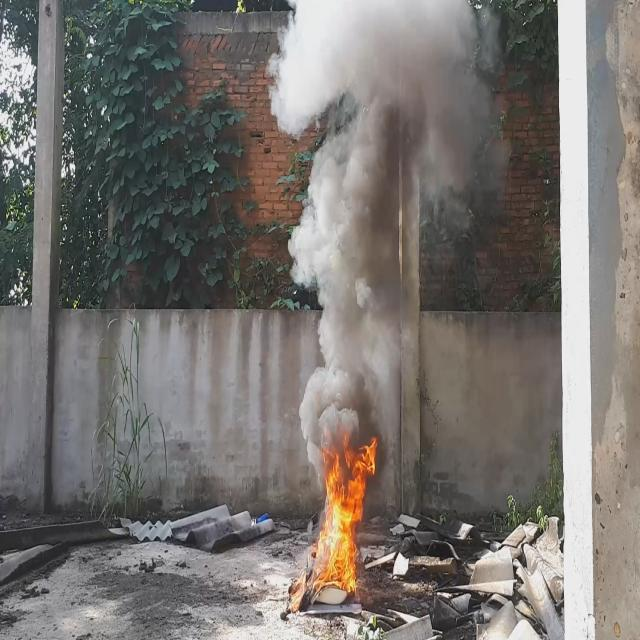Fire: (312, 421, 380, 591)
Smoke: (265, 0, 510, 476)
